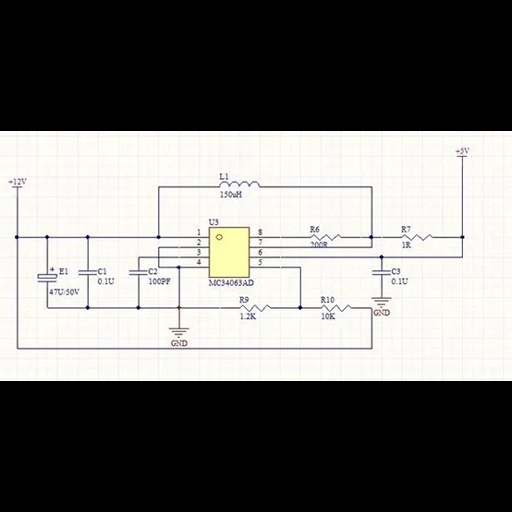capacitor: (76, 266, 97, 280), (370, 267, 392, 279), (126, 267, 149, 278)
gnd: (370, 296, 394, 309), (168, 327, 192, 339)
inductor: (215, 180, 266, 190)
secondresistance: (233, 303, 278, 313), (305, 233, 347, 242), (397, 233, 439, 241), (318, 304, 355, 313)
